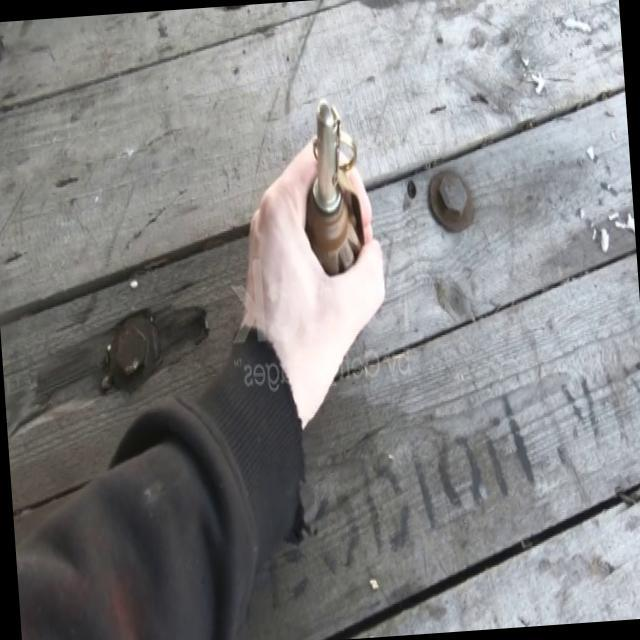grenade: (295, 79, 365, 275)
